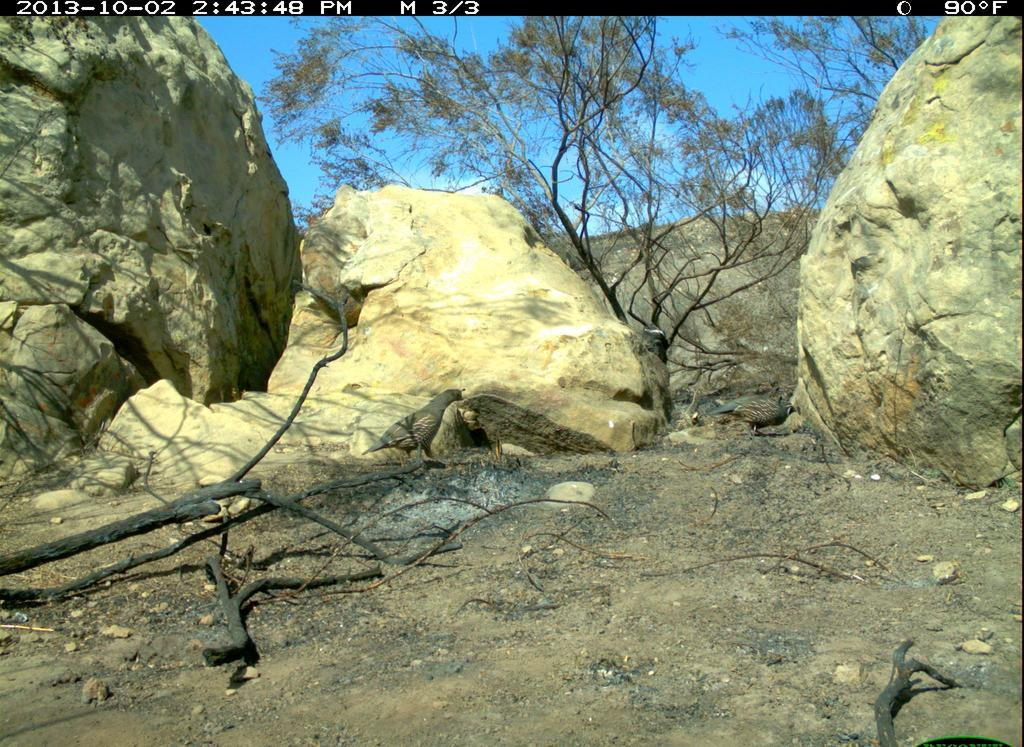bird: (347, 382, 472, 501), (702, 374, 817, 477)
